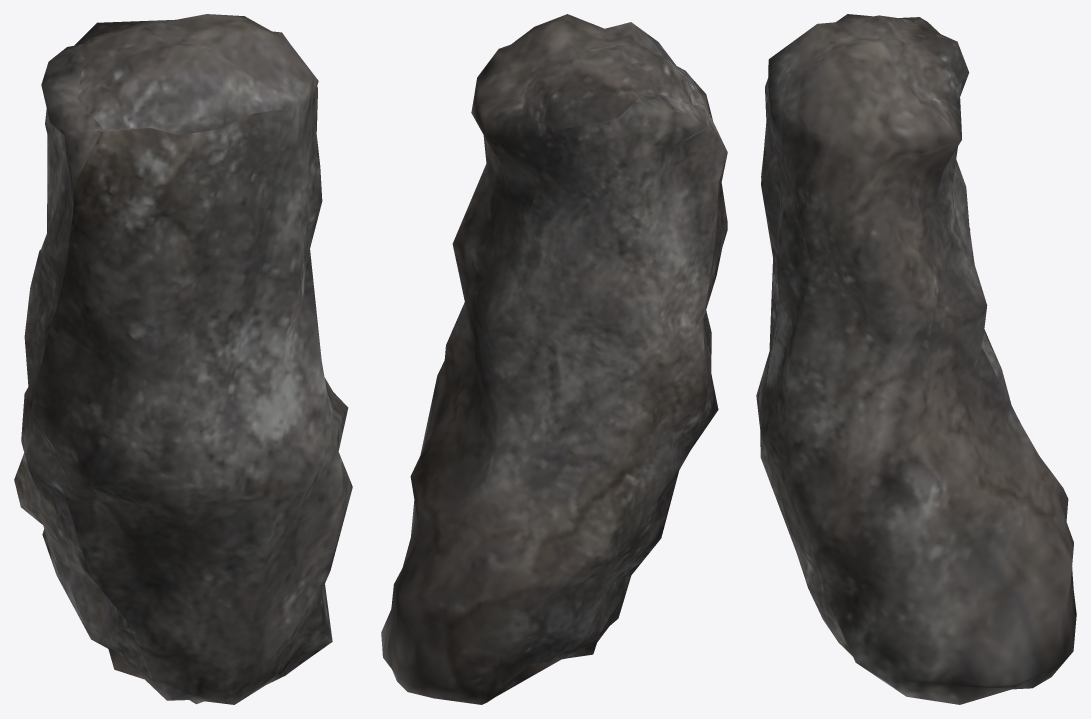
Rendered from N_Rock_11.fbx.
3 views of the same model, side by side, from view 1: azimuth 30°, elevation 25°; view 2: azimuth 150°, elevation 25°; view 3: azimuth 270°, elevation 25° (orthographic). The views are drawn at different scales.
Visible parts, largest first — view 1: Large_10; view 2: Large_10; view 3: Large_10.
Boxes of the visible parts, x1=… form: Large_10: x1=14, y1=14, x2=352, y2=704; Large_10: x1=381, y1=14, x2=727, y2=704; Large_10: x1=756, y1=14, x2=1076, y2=704.
Bounding box in the file's own units: 161 × 348 × 163.
